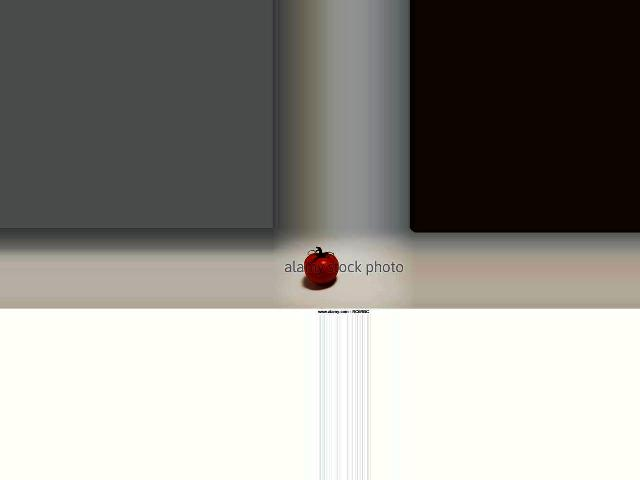tomato: (304, 252, 339, 284)
